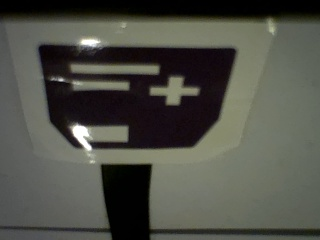Supply_Station: (37, 42, 236, 152)
